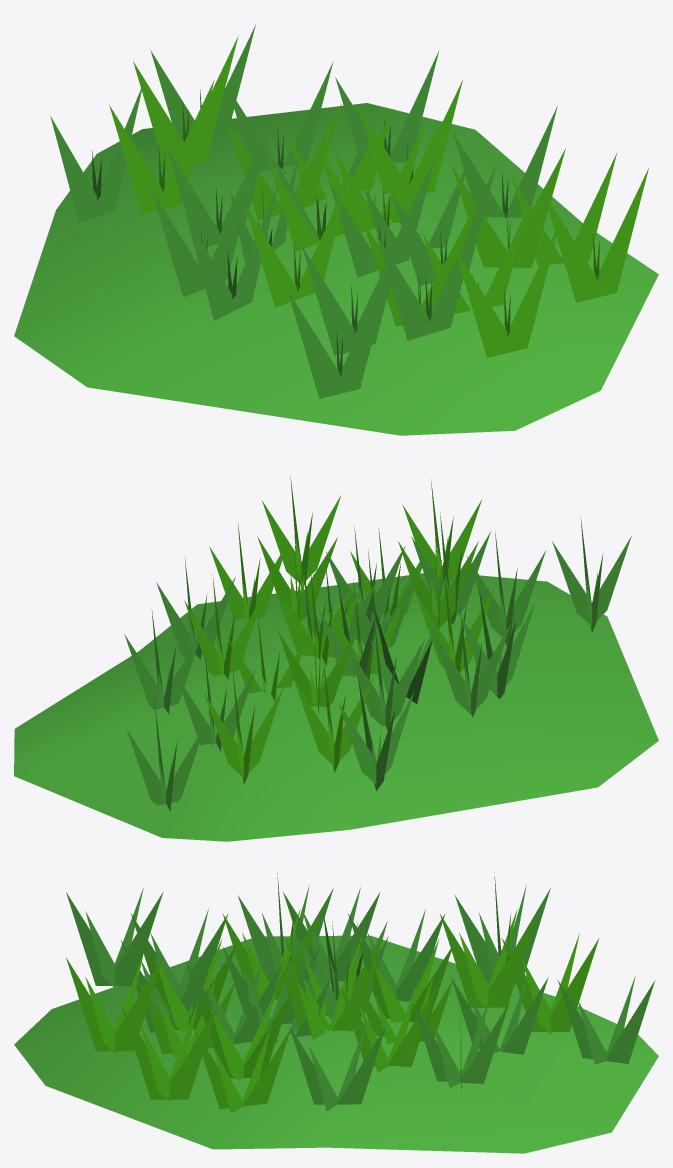
The model's file is grass-patch.glb.
3 views of the same model, one above another, from view 1: azimuth 30°, elevation 25°; view 2: azimuth 150°, elevation 25°; view 3: azimuth 270°, elevation 25° (orthographic). The views are drawn at different scales.
Parts seen in each view (by area): view 1: ChamferCyl001, Plane_043, Plane_042, Plane_063, Plane_065, Plane_059, Plane_058, Plane_045, Plane_062, Plane_041, Plane_051, Plane_056 (+20 smaller); view 2: ChamferCyl001, Plane_058, Plane_042, Plane_051, Plane_056, Plane_063, Plane_046, Plane_057, Plane_048, Plane_039, Plane_059, Plane_060 (+20 smaller); view 3: ChamferCyl001, Plane_063, Plane_059, Plane_043, Plane_042, Plane_039, Plane_051, Plane_048, Plane_061, Plane_064, Plane_062, Plane_060 (+20 smaller).
Boxes of the visible parts, <box> form: ChamferCyl001: <box>14,103,658,435</box>; Plane_043: <box>454,223,559,357</box>; Plane_042: <box>287,263,392,398</box>; Plane_063: <box>544,168,648,302</box>; Plane_065: <box>376,208,481,340</box>; Plane_059: <box>109,79,214,214</box>; Plane_058: <box>50,83,143,222</box>; Plane_045: <box>244,179,349,307</box>; Plane_062: <box>451,148,565,267</box>; Plane_041: <box>186,182,278,320</box>; Plane_051: <box>133,35,238,170</box>; Plane_056: <box>151,165,256,297</box>; ChamferCyl001: <box>14,573,658,841</box>; Plane_058: <box>338,676,414,790</box>; Plane_042: <box>552,516,631,632</box>; Plane_051: <box>204,669,283,784</box>; Plane_056: <box>431,606,510,717</box>; Plane_063: <box>262,475,341,587</box>; Plane_046: <box>466,530,545,645</box>; Plane_057: <box>346,620,424,730</box>; Plane_048: <box>126,702,205,811</box>; Plane_039: <box>124,609,203,714</box>; Plane_059: <box>294,655,373,772</box>; Plane_060: <box>184,575,263,679</box>; ChamferCyl001: <box>14,935,658,1153</box>; Plane_063: <box>121,1000,218,1101</box>; Plane_059: <box>439,909,537,1008</box>; Plane_043: <box>66,953,163,1053</box>; Plane_042: <box>66,888,163,987</box>; Plane_039: <box>412,998,509,1091</box>; Plane_051: <box>502,933,599,1033</box>; Plane_048: <box>558,976,655,1064</box>; Plane_061: <box>289,1020,386,1111</box>; Plane_064: <box>193,1023,290,1113</box>; Plane_062: <box>195,986,291,1080</box>; Plane_060: <box>340,981,437,1072</box>.
Size of the model in its own units: 108 by 27.36 by 135.
